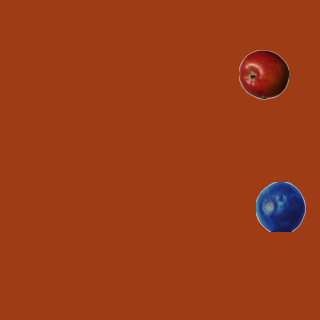Apple Braeburn: (238, 49, 288, 99)
Huckleberry: (255, 181, 305, 231)
